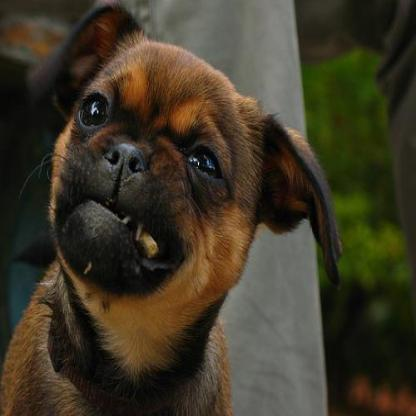Brabancon_griffon: (0, 1, 343, 414)
